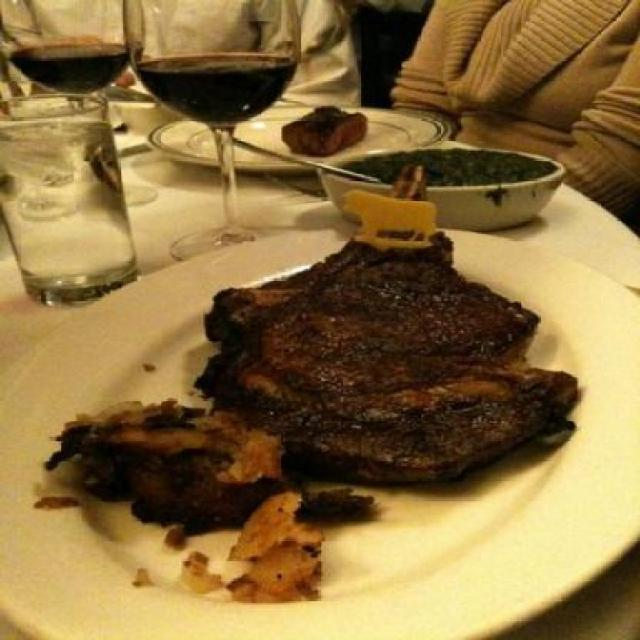Steak: (208, 227, 580, 495)
